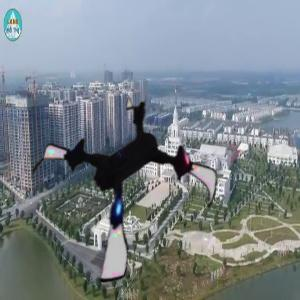drone: (29, 91, 224, 286)
